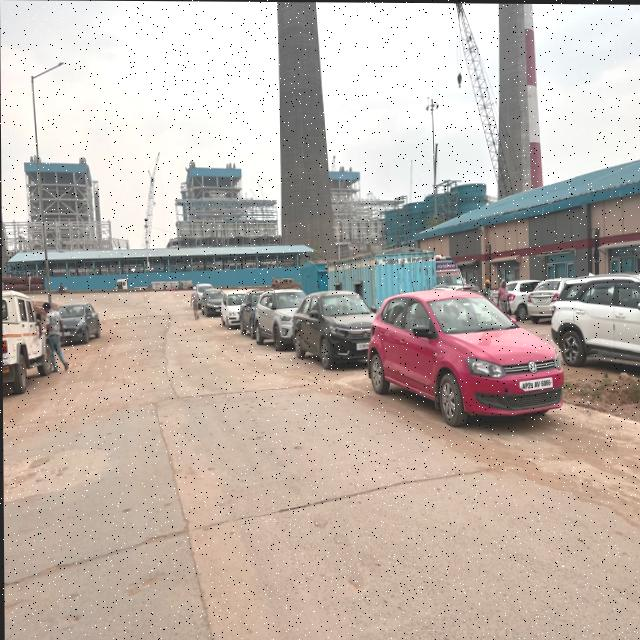car: (366, 277, 562, 464), (551, 271, 640, 368), (293, 285, 377, 373), (2, 280, 48, 418), (253, 286, 307, 356), (60, 300, 105, 354), (526, 272, 566, 323), (501, 273, 540, 320), (220, 287, 246, 330), (239, 287, 259, 337), (202, 285, 225, 320), (195, 283, 213, 309)
